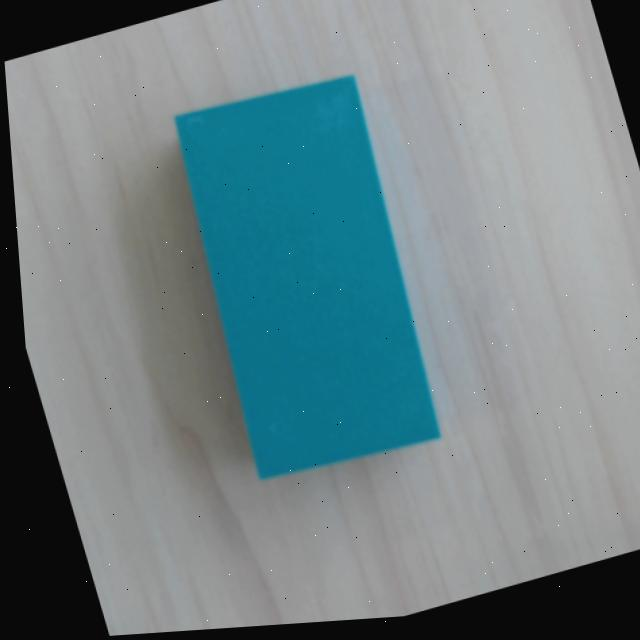Balok-Hijau-1005025: (172, 73, 438, 480)
